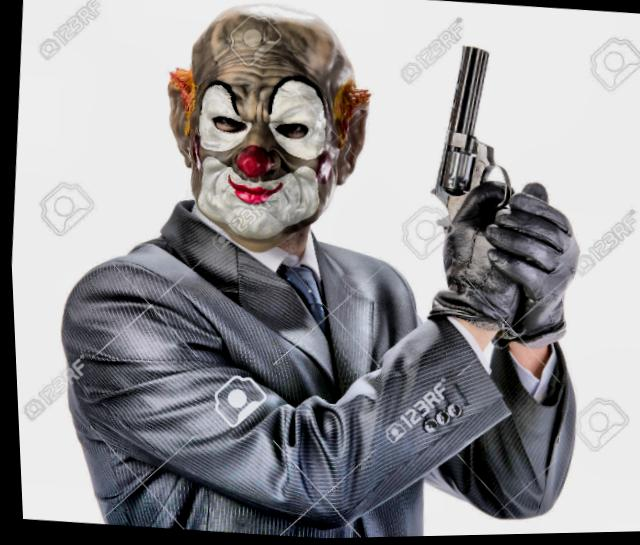pistol: (416, 37, 546, 262)
